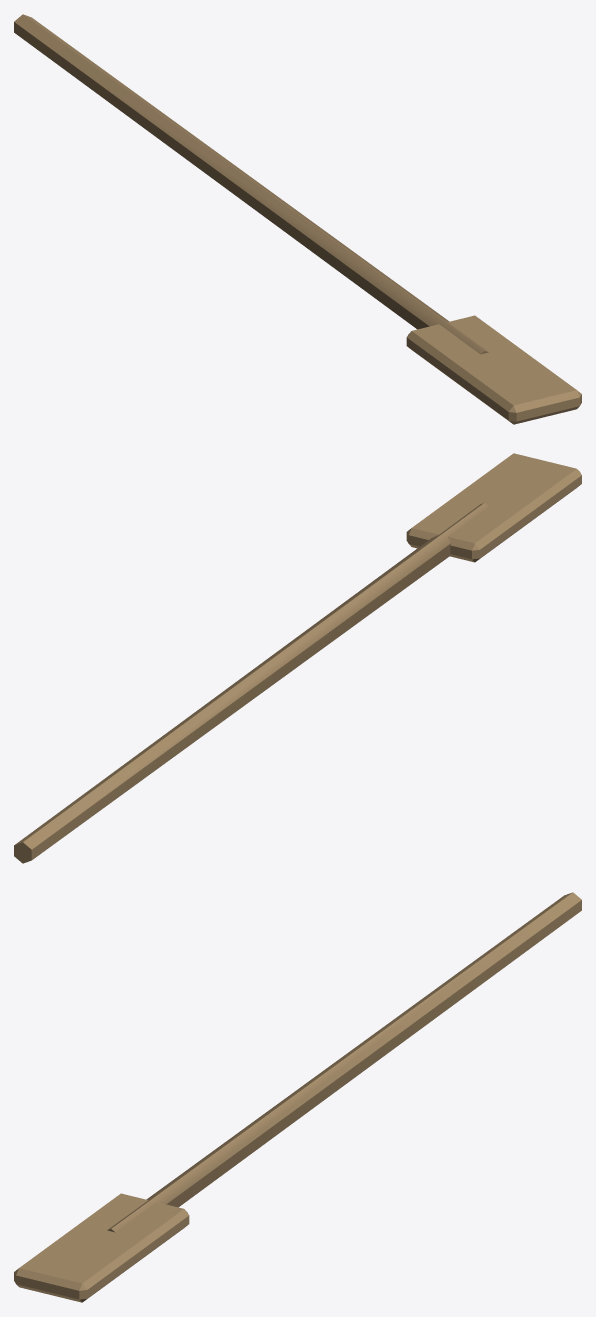
The model's file is oar.glb.
The picture shows the model from 3 angles, top to bottom: view 1: azimuth 30°, elevation 25°; view 2: azimuth 150°, elevation 25°; view 3: azimuth 330°, elevation 25°; orthographic projection.
Visible parts, largest first — view 1: oar; view 2: oar; view 3: oar.
Part boxes in pixels (x1,y1,x2,y2): oar: (14, 14, 581, 424); oar: (14, 453, 581, 863); oar: (14, 892, 581, 1302).
Size of the model in its own units: 0.22 by 0.07 by 2.73.
